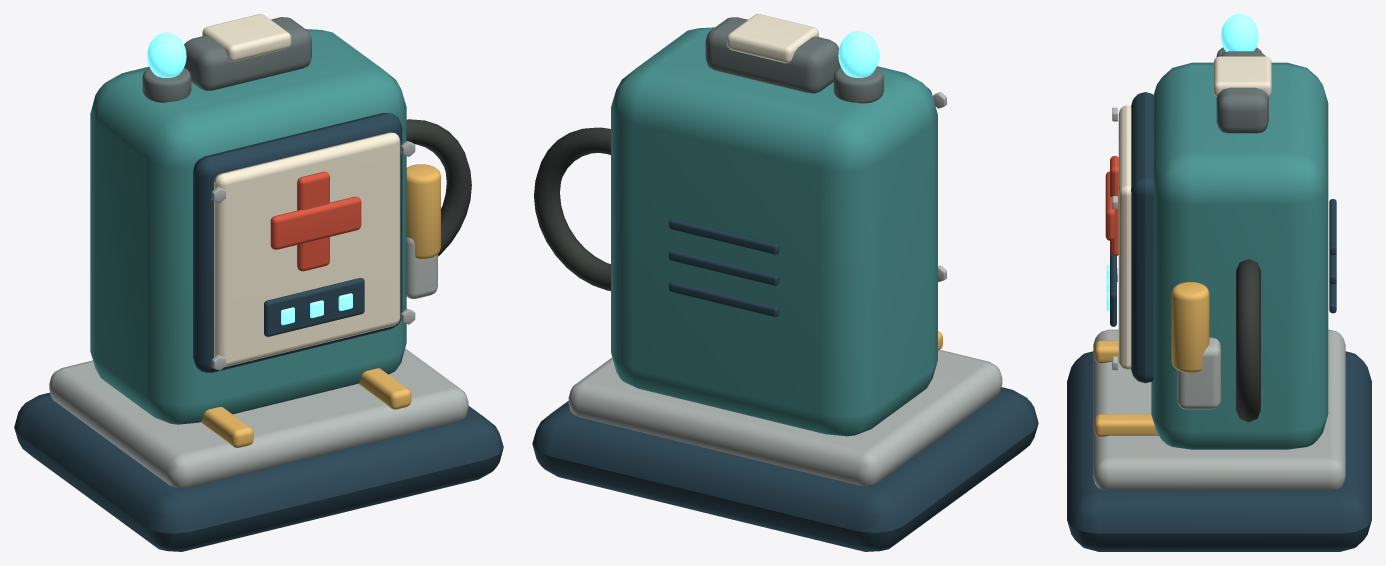
The model's file is discovery-repair.glb.
The picture shows the model from 3 angles, left to right: view 1: azimuth 30°, elevation 25°; view 2: azimuth 150°, elevation 25°; view 3: azimuth 270°, elevation 25°; orthographic projection. The views are drawn at different scales.
Visible parts, largest first — view 1: Repair_Station teal enamel, Repair_Midnight blue, Repair_Warm ivory, Repair_Brushed steel, Repair_Gunmetal, Repair_Brass details, Repair_Repair coral, Repair_Rubber, Repair_Electric ceramic; view 2: Repair_Station teal enamel, Repair_Midnight blue, Repair_Brushed steel, Repair_Gunmetal, Repair_Rubber, Repair_Warm ivory, Repair_Electric ceramic; view 3: Repair_Station teal enamel, Repair_Midnight blue, Repair_Brushed steel, Repair_Warm ivory, Repair_Brass details, Repair_Rubber, Repair_Gunmetal, Repair_Electric ceramic, Repair_Repair coral.
Part boxes in pixels (x1,y1,x2,y2): Repair_Station teal enamel: (90, 29, 406, 424); Repair_Midnight blue: (14, 113, 503, 551); Repair_Warm ivory: (202, 14, 400, 367); Repair_Brushed steel: (49, 141, 468, 487); Repair_Gunmetal: (142, 17, 311, 102); Repair_Brass details: (201, 164, 440, 447); Repair_Repair coral: (270, 171, 361, 271); Repair_Rubber: (406, 119, 471, 256); Repair_Electric ceramic: (147, 32, 352, 325); Repair_Station teal enamel: (611, 27, 937, 436); Repair_Midnight blue: (532, 87, 1038, 551); Repair_Brushed steel: (568, 92, 1002, 485); Repair_Gunmetal: (705, 17, 883, 103); Repair_Rubber: (534, 127, 610, 290); Repair_Warm ivory: (727, 14, 818, 63); Repair_Electric ceramic: (838, 31, 878, 77); Repair_Station teal enamel: (1151, 62, 1328, 449); Repair_Midnight blue: (1067, 92, 1371, 551); Repair_Brushed steel: (1093, 107, 1345, 490); Repair_Warm ivory: (1118, 56, 1271, 369); Repair_Brass details: (1094, 282, 1209, 437); Repair_Rubber: (1236, 259, 1260, 422); Repair_Gunmetal: (1216, 47, 1268, 133); Repair_Electric ceramic: (1106, 14, 1258, 310); Repair_Repair coral: (1105, 155, 1118, 256).
Size of the model in its own units: 1.54 by 1.62 by 1.05.
